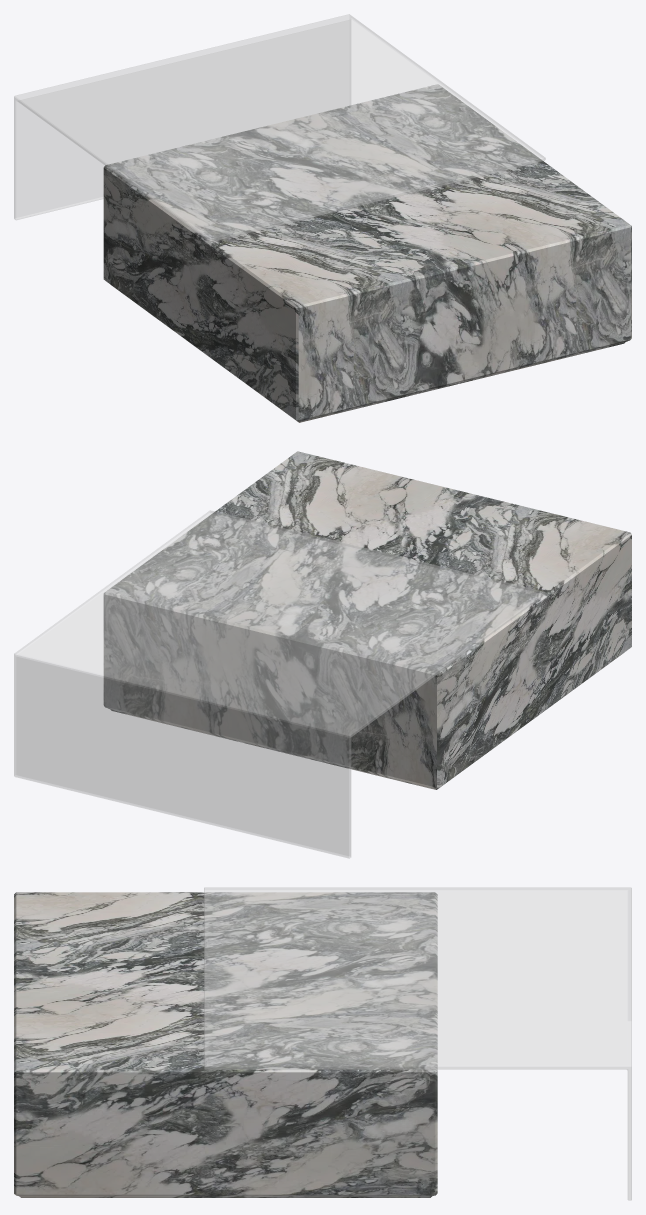
The model's file is fit-coffee-main.glb.
The picture shows the model from 3 angles, top to bottom: view 1: azimuth 30°, elevation 25°; view 2: azimuth 150°, elevation 25°; view 3: azimuth 270°, elevation 25°; orthographic projection. The views are drawn at different scales.
Bounding box in the file's own units: 0.9406 × 0.331 × 1.37.
2 materials, 1 textured.
